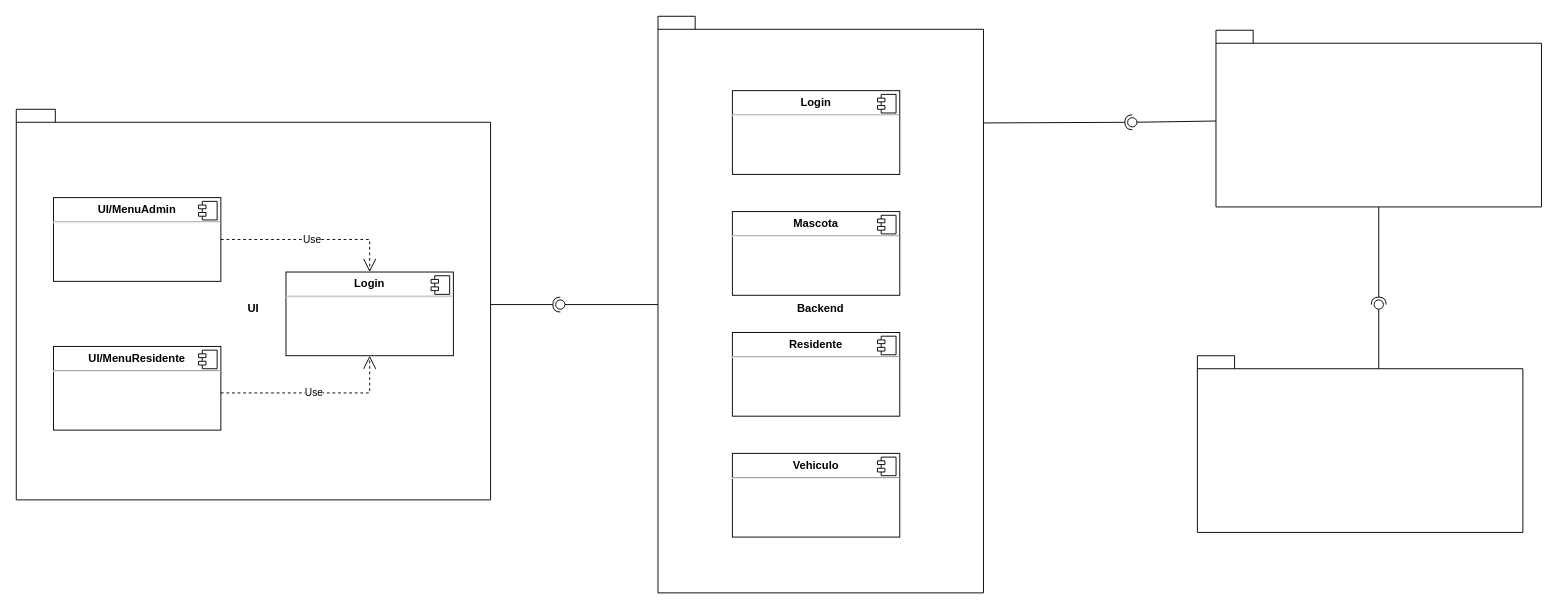
This 1558x609 diagram has some shape labels left out. Here are the shapes that lost their labels. From the top down, the centre of each, then its label:
At pixel 1378 118: "Servicio Proyecto".
At pixel 1359 443: "Conjunto DB".
